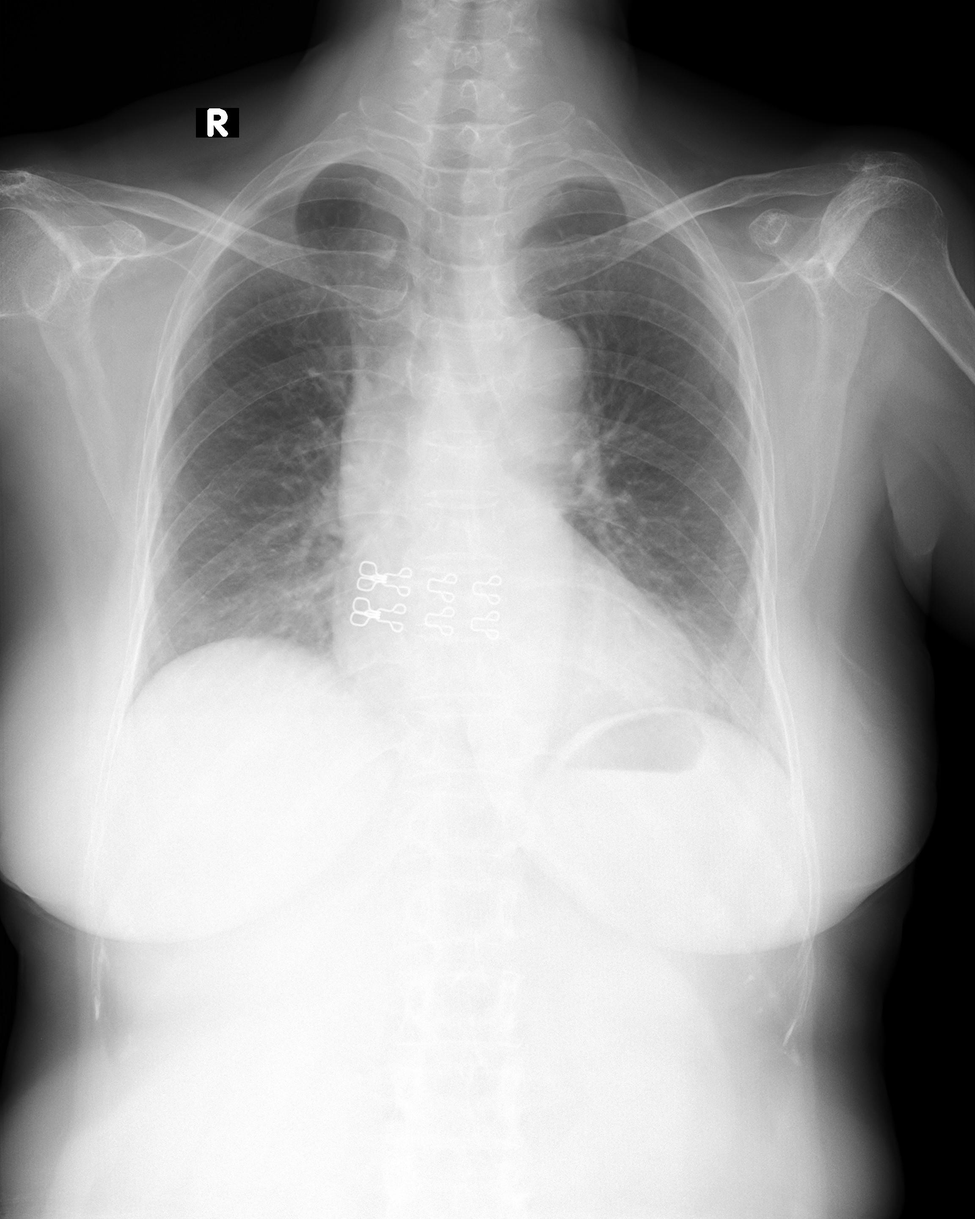Aortic enlargement: (461, 305, 590, 463)
Cardiomegaly: (325, 585, 713, 728)
